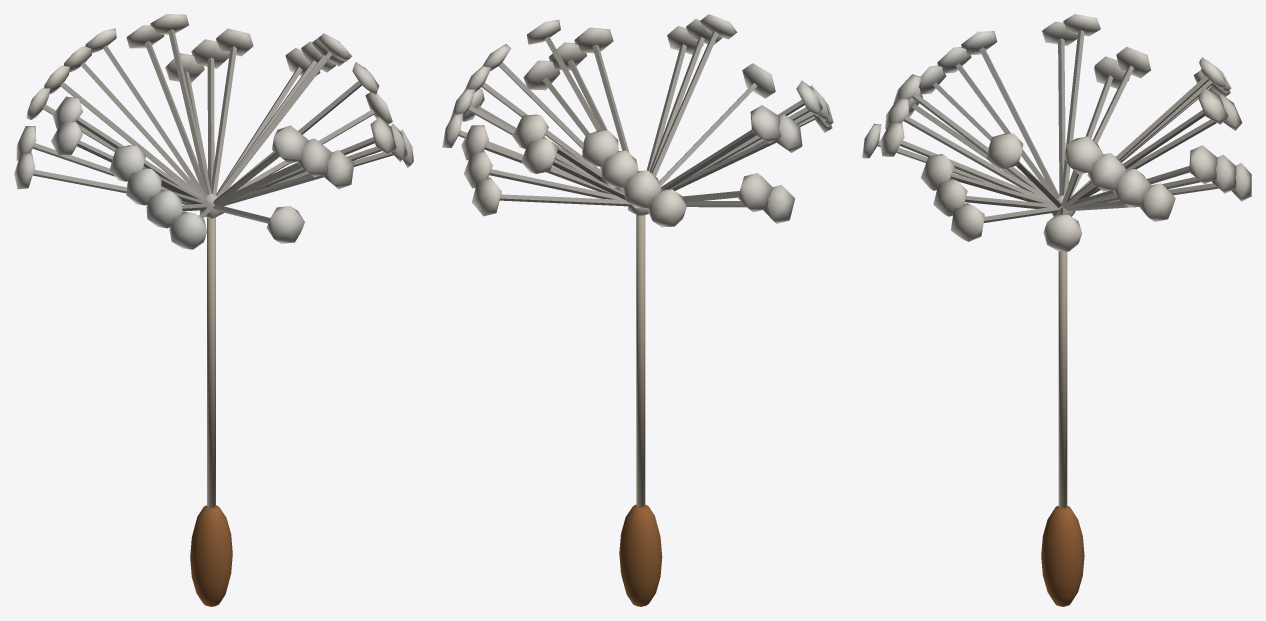
Rendered from col_dandelion_puff.glb.
3 views of the same model, side by side, from view 1: azimuth 30°, elevation 25°; view 2: azimuth 150°, elevation 25°; view 3: azimuth 270°, elevation 25° (orthographic).
Parts seen in each view (by area): view 1: col_dandelion_puff; view 2: col_dandelion_puff; view 3: col_dandelion_puff.
Boxes of the visible parts, x1,y1,x2,y2 form: col_dandelion_puff: (14,14,413,606); col_dandelion_puff: (442,14,833,606); col_dandelion_puff: (862,14,1251,606).
Size of the model in its own units: 0.577 by 0.85 by 0.5648.
